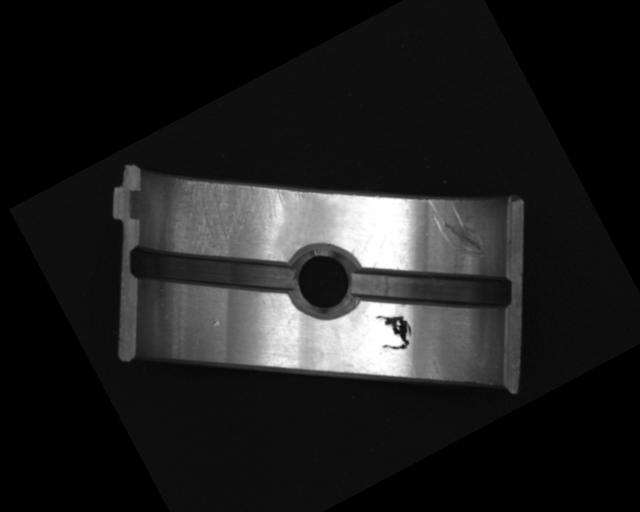blot: (367, 303, 419, 359)
bruise: (208, 316, 221, 329)
gap: (121, 186, 300, 350), (349, 209, 519, 364)
hole: (274, 235, 372, 332)
nick: (423, 183, 491, 270)
scratch: (143, 128, 311, 277)
